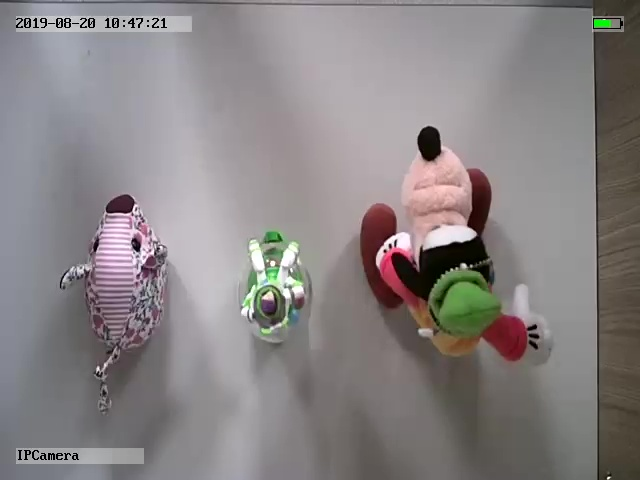buzz: (228, 226, 317, 347)
goofy: (356, 124, 556, 372)
pig: (58, 191, 171, 415)
